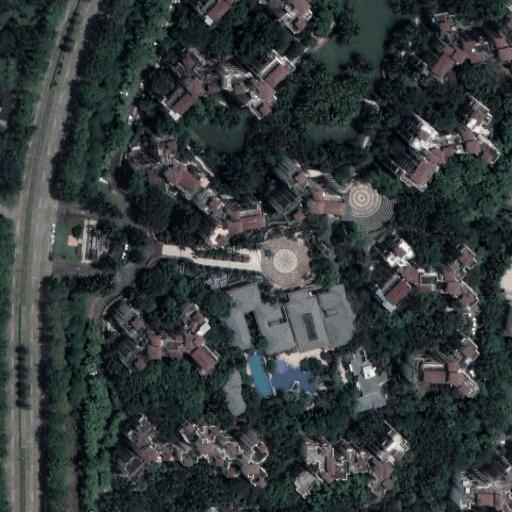building: (130, 131, 255, 246), (151, 33, 284, 107), (380, 91, 487, 180), (283, 420, 405, 485), (110, 294, 214, 366), (361, 229, 466, 300), (416, 7, 512, 77), (402, 326, 472, 389), (181, 438, 271, 485), (266, 149, 332, 211), (452, 449, 512, 512), (120, 416, 175, 483), (316, 282, 360, 348), (286, 288, 330, 351), (252, 295, 298, 355), (217, 303, 254, 352), (226, 283, 262, 312), (357, 367, 389, 397), (356, 390, 390, 413), (350, 346, 374, 377), (224, 386, 248, 417), (219, 366, 243, 390), (0, 105, 7, 130), (505, 300, 512, 324), (0, 89, 9, 107)
